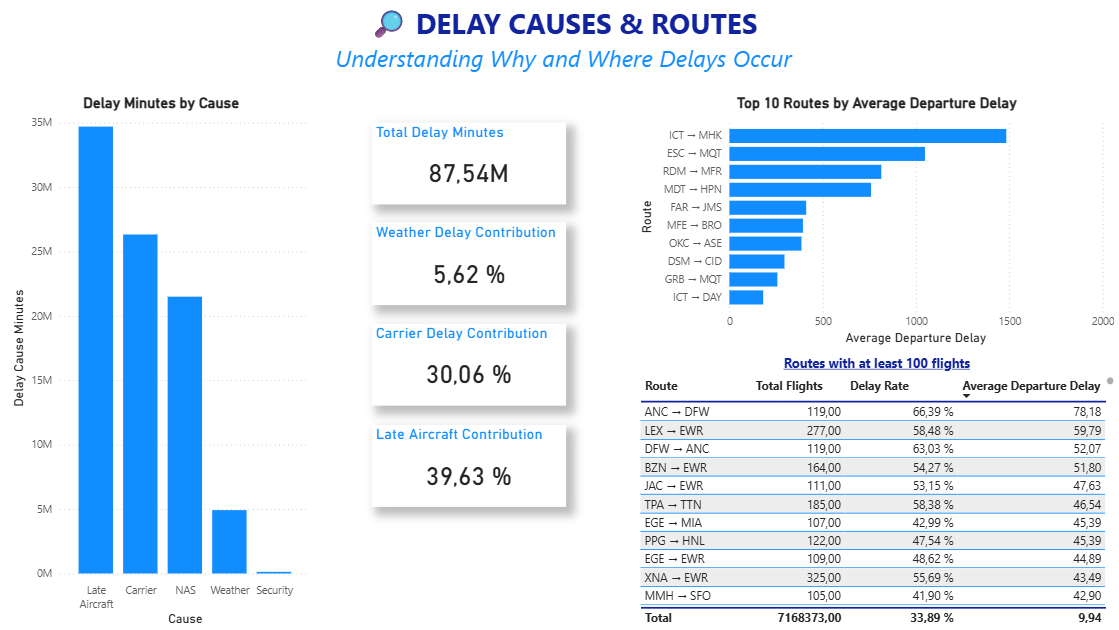

This screenshot's page, from the dashboard's own definition file:
{"tool":"powerbi","page":{"name":"Delay Causes & routes","canvas":[1280,720],"ordinal":4},"visuals":[{"type":"textbox","box":[10.1,0,1270.2,88.1],"z":0},{"type":"clusteredColumnChart","title":"Delay Minutes by Cause","fields":{"Category":["DelayCauses.Cause"],"Y":["DelayCauses.Delay Cause Minutes"]},"box":[10,107,350.8,613.3],"z":1000},{"type":"tableEx","fields":{"Values":["FactFlights.Route","measure.Total Flights","measure.Delay Rate","measure.Average Departure Delay"]},"box":[727.7,399.3,552.3,320.9],"z":2000},{"type":"card","title":"Total Delay Minutes","fields":{"Values":["measure.Total Cause Delay Minutes"]},"box":[425.4,140.6,222.7,93.3],"z":3000},{"type":"card","title":"Weather Delay Contribution","fields":{"Values":["measure.Weather Delay %"]},"box":[425.4,253.8,222.7,94.5],"z":4000},{"type":"card","title":"Carrier Delay Contribution","fields":{"Values":["measure.Carrier Delay %"]},"box":[425.4,369.5,222.7,93.3],"z":5000},{"type":"card","title":"Late Aircraft Contribution","fields":{"Values":["measure.Late Aircraft Delay %"]},"box":[425.4,485.1,222.7,93.3],"z":6000},{"type":"clusteredBarChart","title":"Top 10 Routes by Average Departure Delay","fields":{"Category":["FactFlights.Route"],"Y":["measure.Average Departure Delay"]},"box":[727.7,107,552.3,292.3],"z":7000}]}

Visuals, with their boxes in screenshot pixels (x1, y1, x2, y2), scaled from the page's 1280x720 canvas onto the 1119x630 screenshot:
textbox: 9 0 1118 77
"Delay Minutes by Cause" clusteredColumnChart: 9 94 315 629
tableEx - FactFlights.Route x measure.Total Flights: 636 349 1118 629
"Total Delay Minutes" card: 372 123 567 205
"Weather Delay Contribution" card: 372 222 567 305
"Carrier Delay Contribution" card: 372 323 567 405
"Late Aircraft Contribution" card: 372 424 567 506
"Top 10 Routes by Average Departure Delay" clusteredBarChart: 636 94 1118 349
